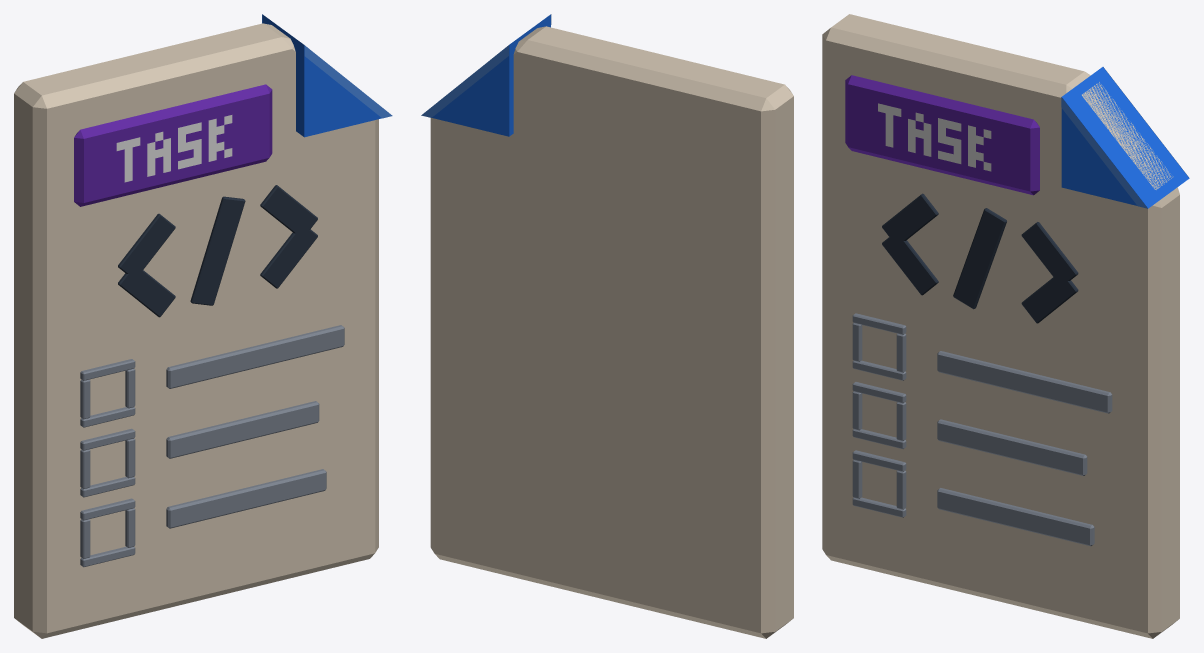
Rendered from work_coding_task_v01.glb.
3 renders of one model, left to right at view 1: azimuth 30°, elevation 25°; view 2: azimuth 150°, elevation 25°; view 3: azimuth 330°, elevation 25°, orthographic.
Parts seen in each view (by area): view 1: coding_task; view 2: coding_task; view 3: coding_task.
Part boxes in pixels (x1,y1,x2,y2): coding_task: [14, 14, 392, 638]; coding_task: [421, 14, 793, 638]; coding_task: [822, 14, 1189, 638].
Size of the model in its own units: 0.96 by 1.44 by 0.204.
